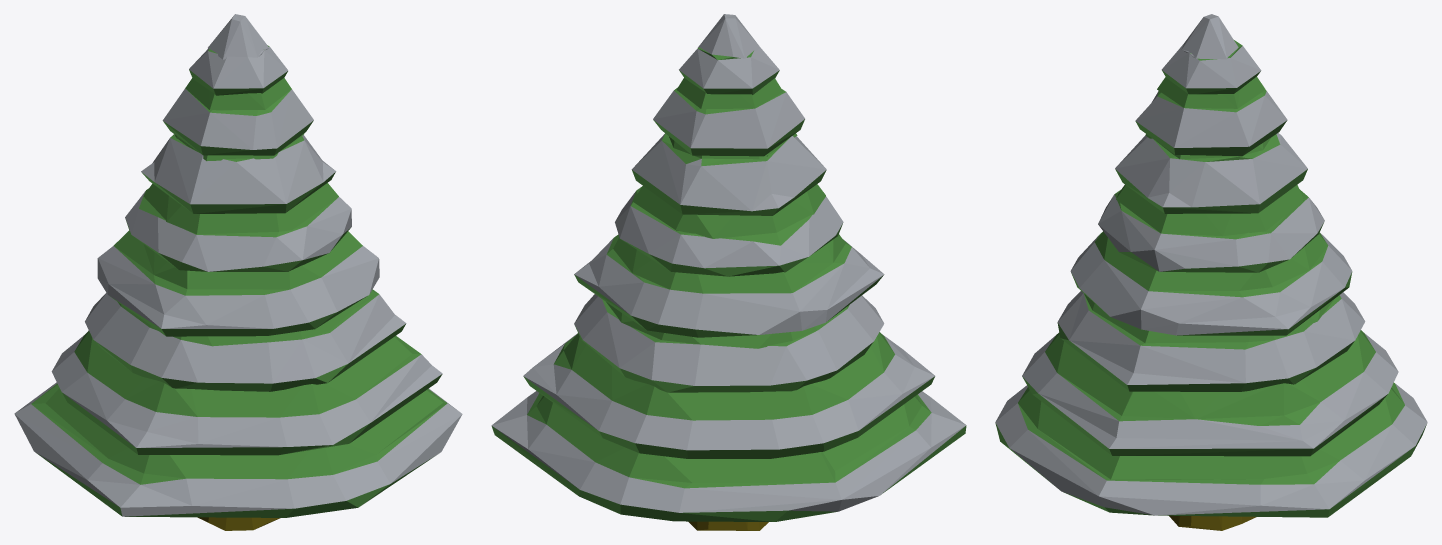
The model's file is tree2_4.fbx.
3 renders of one model, left to right at view 1: azimuth 30°, elevation 25°; view 2: azimuth 150°, elevation 25°; view 3: azimuth 270°, elevation 25°, orthographic.
Visible parts, largest first — view 1: Cylinder.001; view 2: Cylinder.001; view 3: Cylinder.001.
Boxes of the visible parts, <box> form: Cylinder.001: <box>14,14,462,530</box>; Cylinder.001: <box>491,14,966,530</box>; Cylinder.001: <box>995,14,1427,530</box>.
Size of the model in its own units: 297 by 398 by 314.
